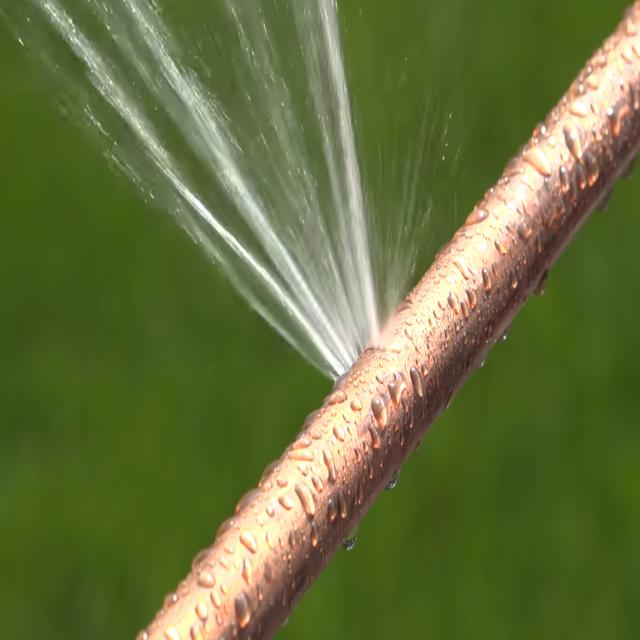leak: (18, 0, 380, 377)
